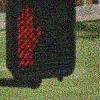traffic lights: (5, 1, 79, 84)
